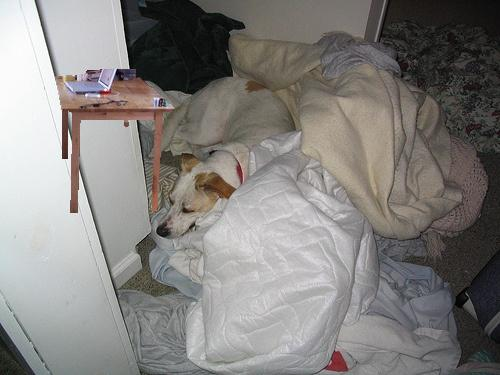tampered: (56, 70, 174, 213)
